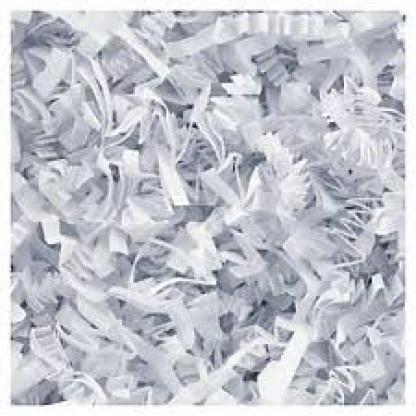paper: (9, 7, 401, 403)
